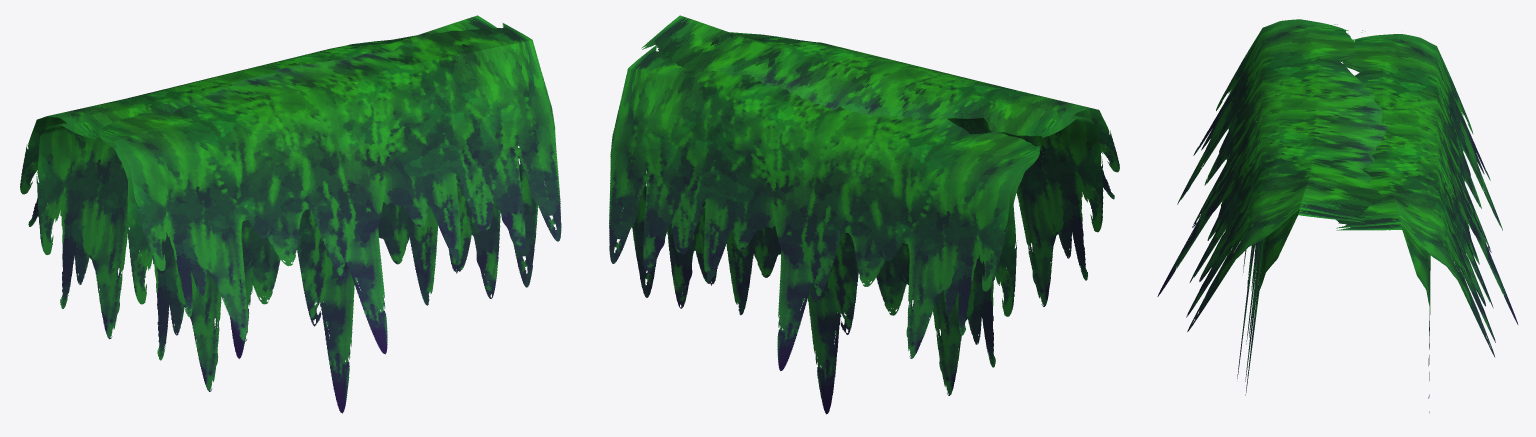
Rendered from MossMesh.fbx.
3 views of the same model, side by side, from view 1: azimuth 30°, elevation 25°; view 2: azimuth 150°, elevation 25°; view 3: azimuth 270°, elevation 25° (orthographic). The views are drawn at different scales.
Visible parts, largest first — view 1: MossMesh; view 2: MossMesh; view 3: MossMesh.
Boxes of the visible parts, <box> form: MossMesh: <box>20,15,561,413</box>; MossMesh: <box>609,15,1119,414</box>; MossMesh: <box>1157,19,1518,412</box>.
Size of the model in its own units: 100 by 70.92 by 78.16.
Materials: 1 (1 with a texture image).
